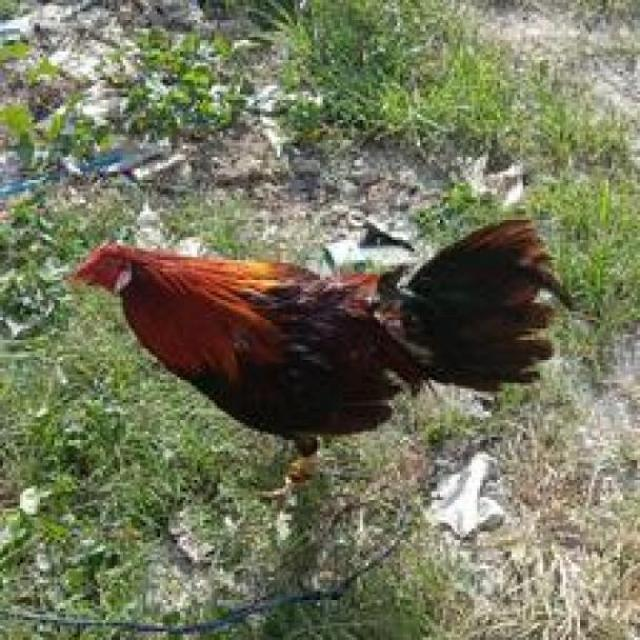Chicken: (58, 197, 578, 510)
